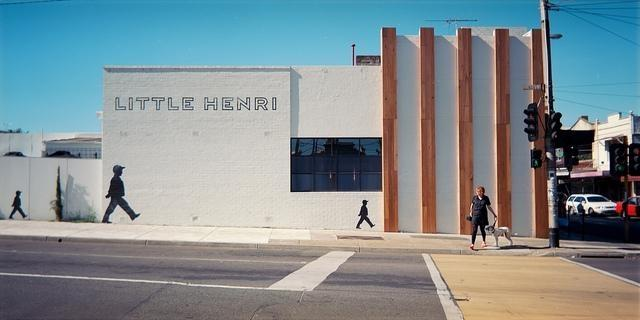car: (566, 194, 618, 217), (615, 196, 640, 220)
